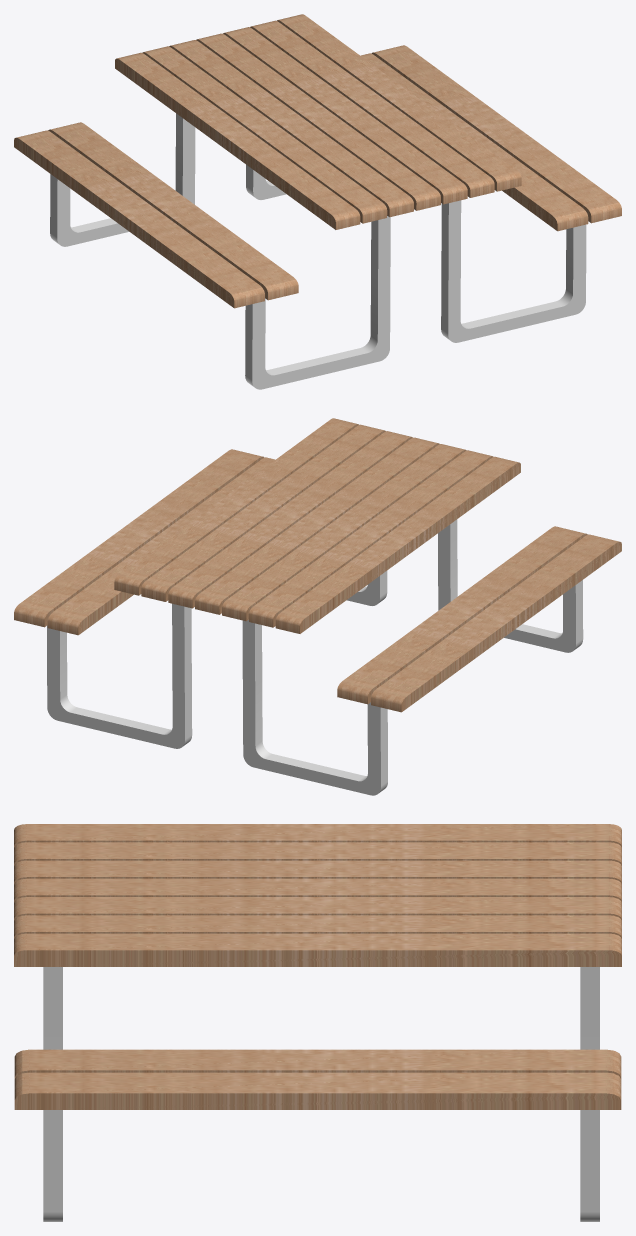
The model's file is PARK TABLE fbx.fbx.
3 views of the same model, one above another, from view 1: azimuth 30°, elevation 25°; view 2: azimuth 150°, elevation 25°; view 3: azimuth 270°, elevation 25° (orthographic). The views are drawn at different scales.
Visible parts, largest first — view 1: wood 1, metal stand, wood3, wood2; view 2: wood 1, metal stand, wood3, wood2; view 3: wood 1, wood2, metal stand.
Boxes of the visible parts, x1=… form: wood 1: x1=115, y1=14, x2=521, y2=229; metal stand: x1=50, y1=113, x2=586, y2=389; wood3: x1=14, y1=122, x2=298, y2=308; wood2: x1=361, y1=45, x2=621, y2=231; wood 1: x1=114, y1=418, x2=520, y2=633; metal stand: x1=47, y1=519, x2=583, y2=795; wood3: x1=337, y1=526, x2=621, y2=712; wood2: x1=14, y1=449, x2=274, y2=635; wood 1: x1=14, y1=824, x2=621, y2=966; wood2: x1=14, y1=1049, x2=621, y2=1109; metal stand: x1=43, y1=967, x2=599, y2=1221.
Size of the model in its own units: 400 by 163 by 394.
2 materials, 1 textured.
